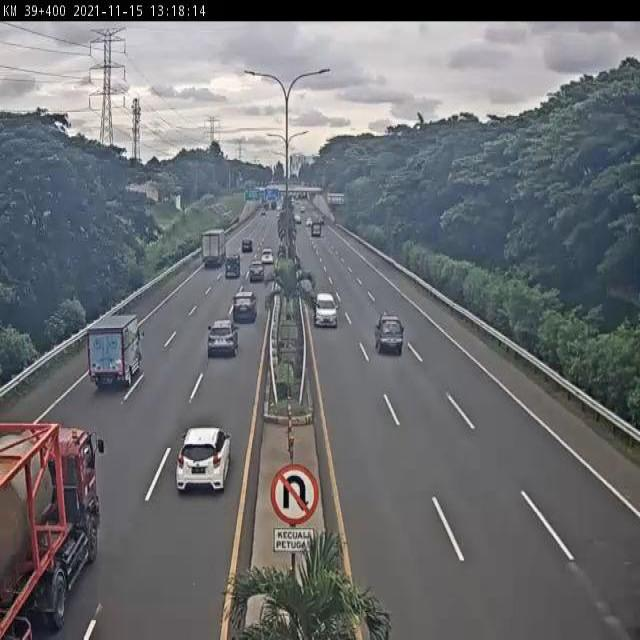car: (175, 426, 233, 498), (207, 318, 240, 358), (314, 292, 340, 328), (232, 290, 259, 322), (248, 259, 267, 284)
truck-s-: (89, 313, 142, 388), (373, 312, 404, 353)
truck-xl-: (0, 425, 97, 640)
